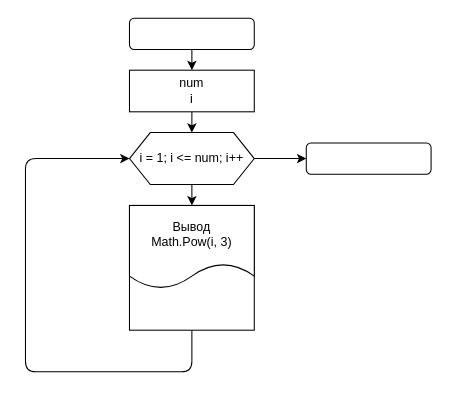
This 449x398 diagram has some shape labels left out. Here are the shapes that lost their labels. From the top down, the centre of each, then its label:
At pixel 191 33: "start".
At pixel 368 158: "end".
